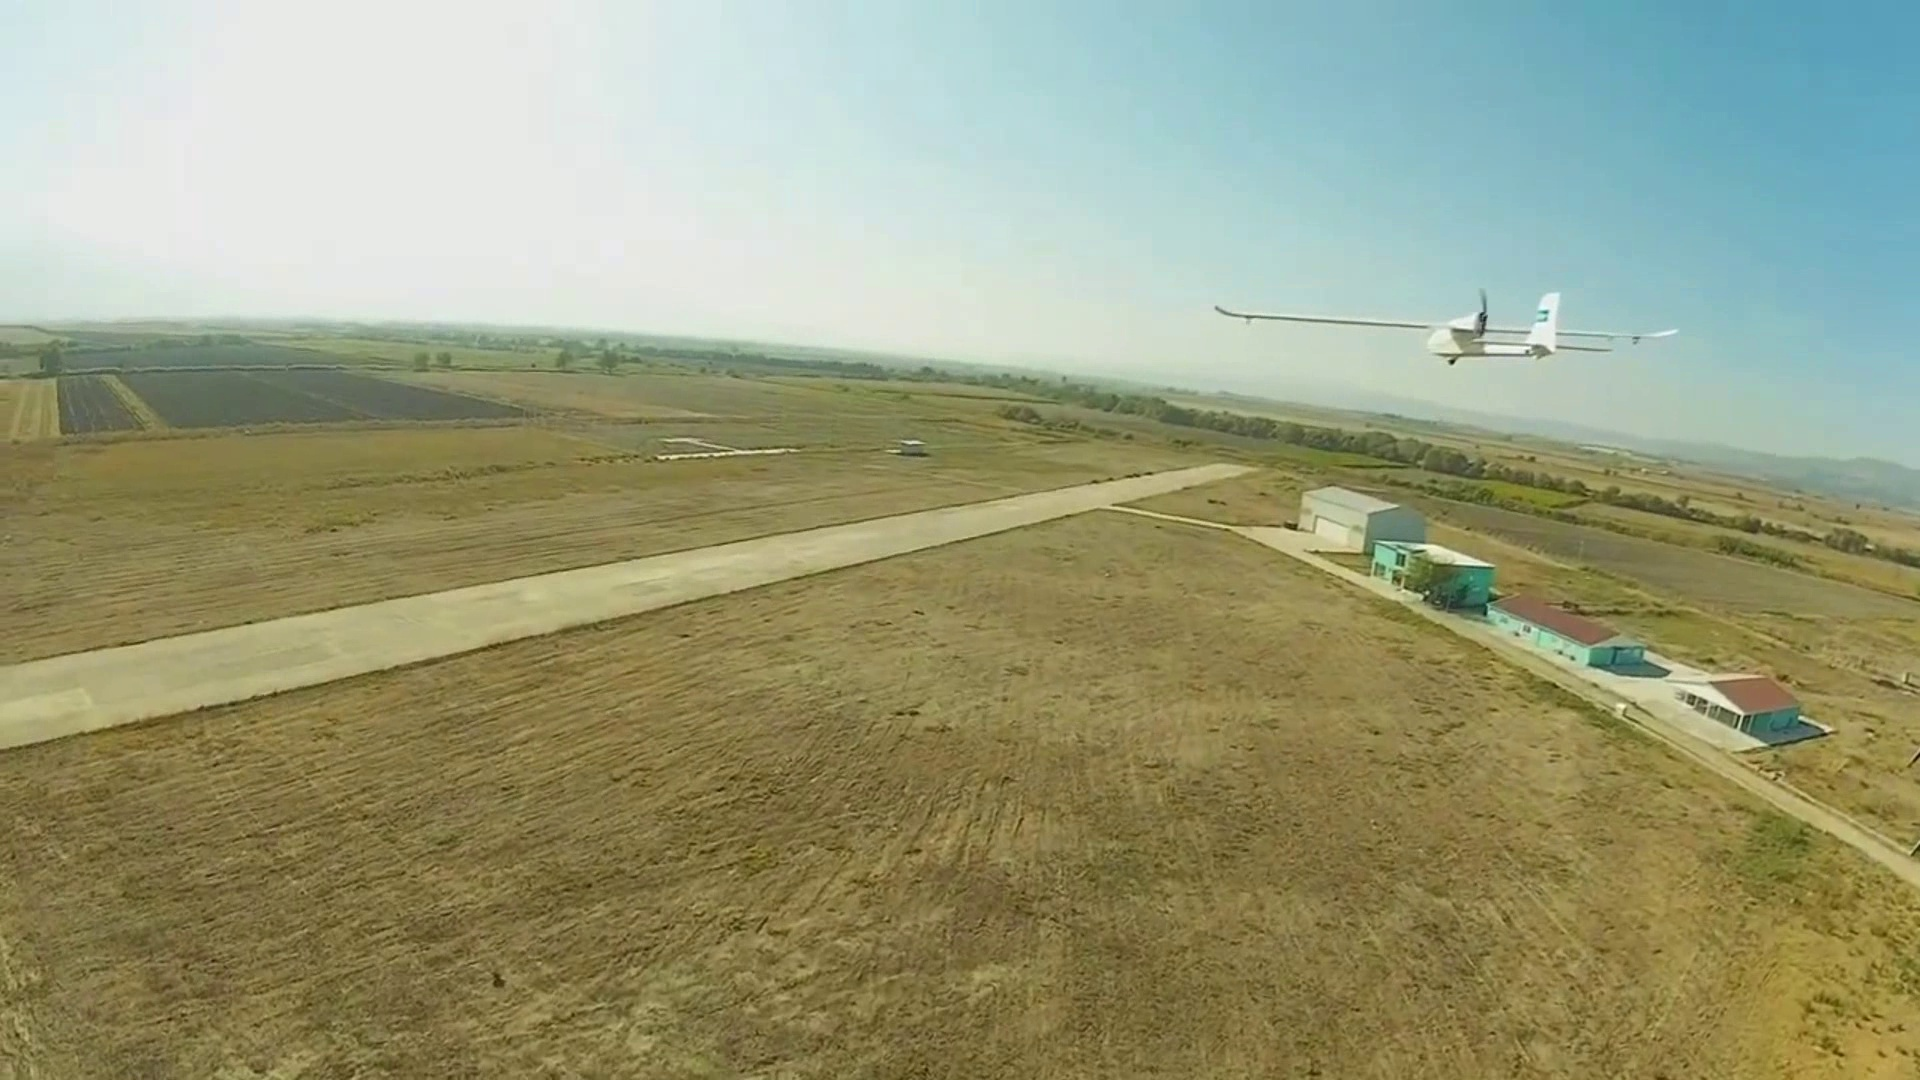airplane: (1211, 286, 1681, 367)
